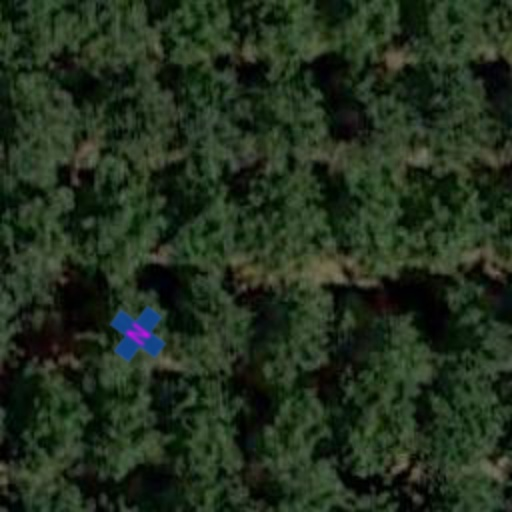cross: (98, 294, 178, 374)
